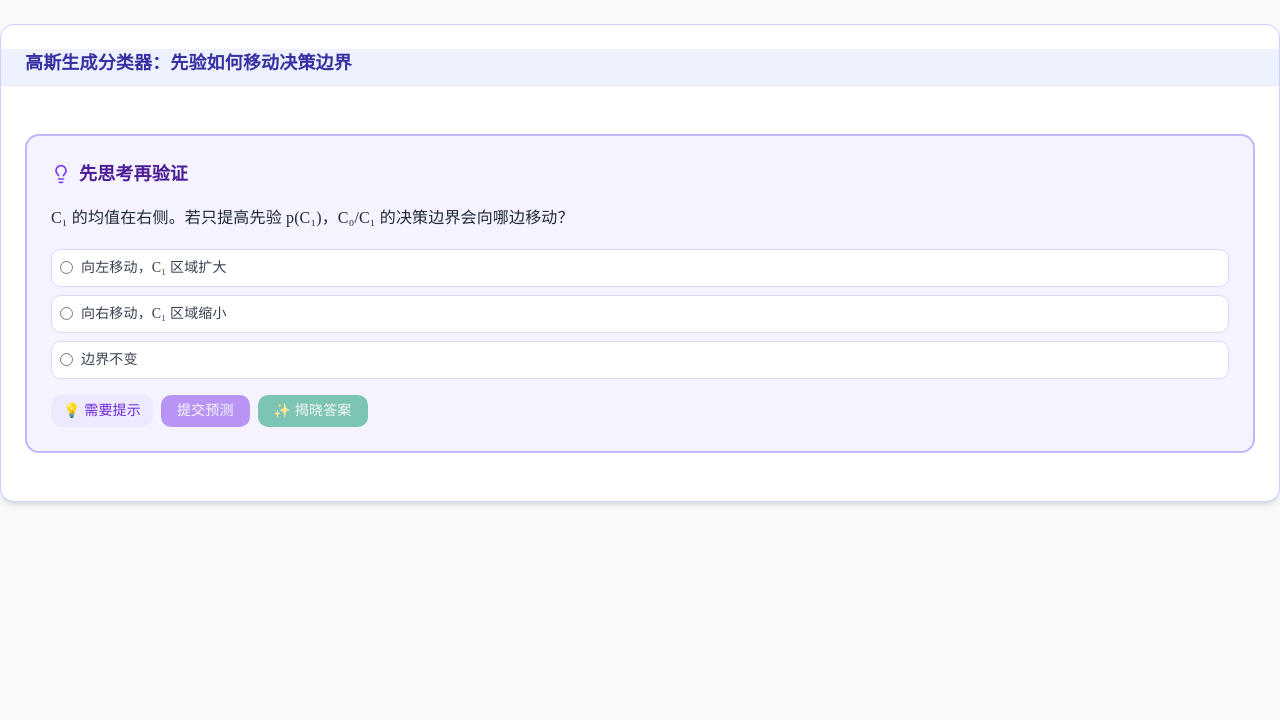
Test: chapter 2 teaching-ready learning loop › gates the Gaussian experiment until a prediction is submitted
Click the radio button labelled "向左移动，C₁ 区域扩大".
click(66, 268)  # box [60,261,73,274]
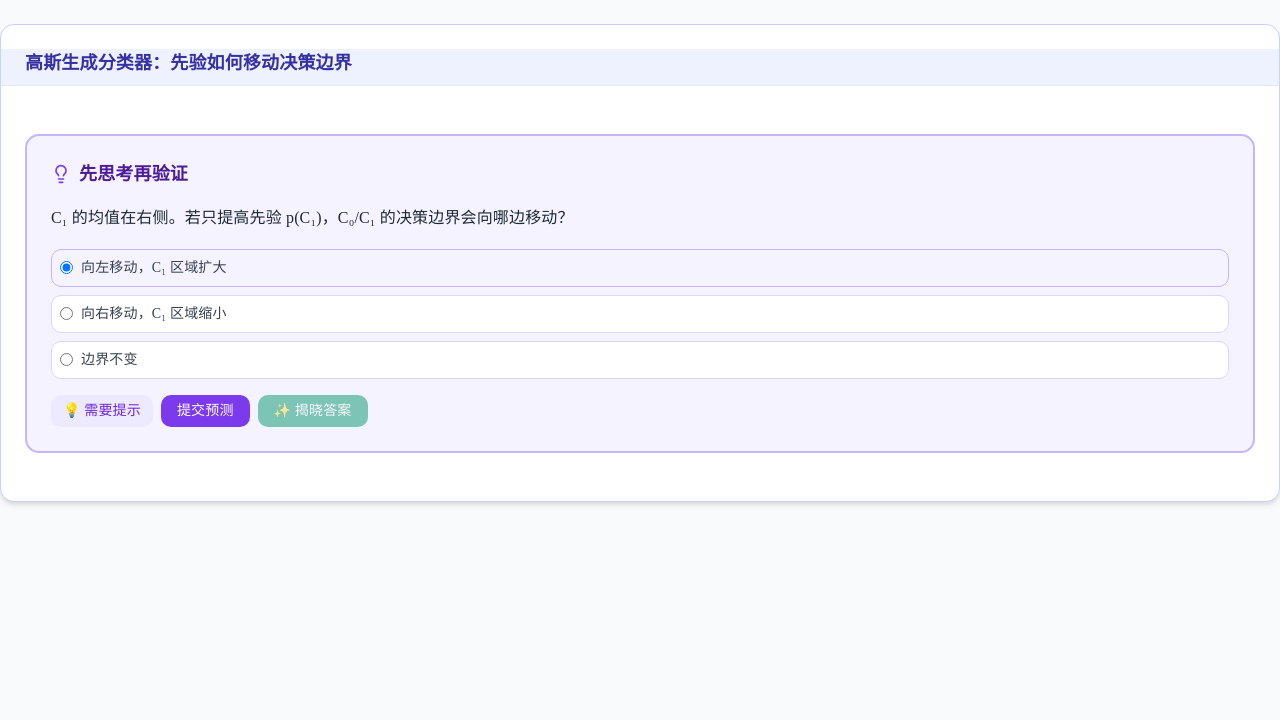
Click the button "提交预测".
click(205, 411)  # box [161,395,250,427]
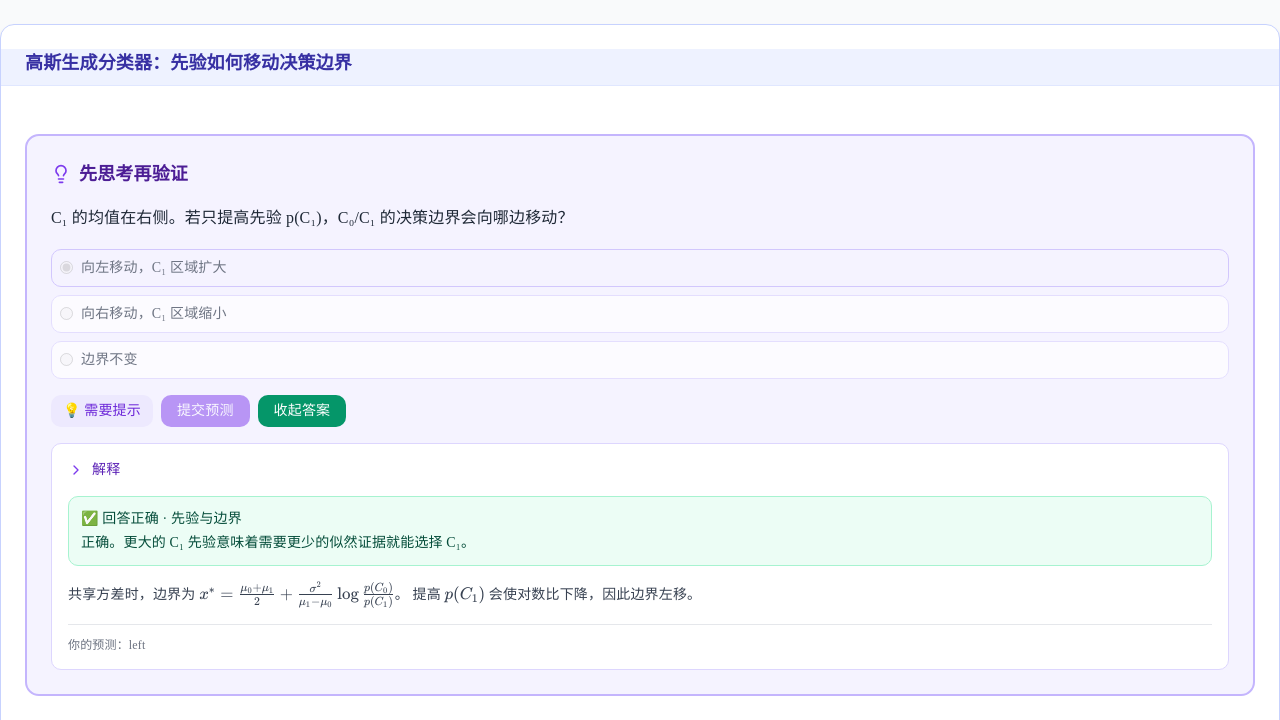
Check: the text "✅ 回答正确 · 先验与边界" is shown, box [81,511,242,526]
